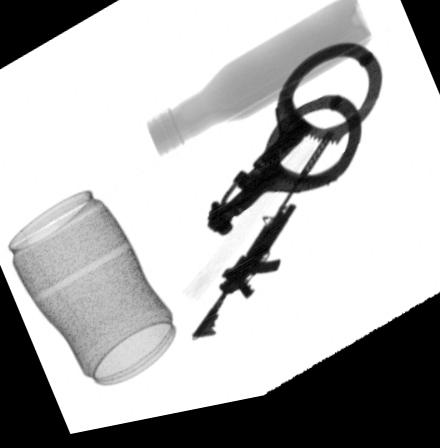Gun: (187, 142, 335, 347)
HandCuffs: (205, 55, 381, 245)
